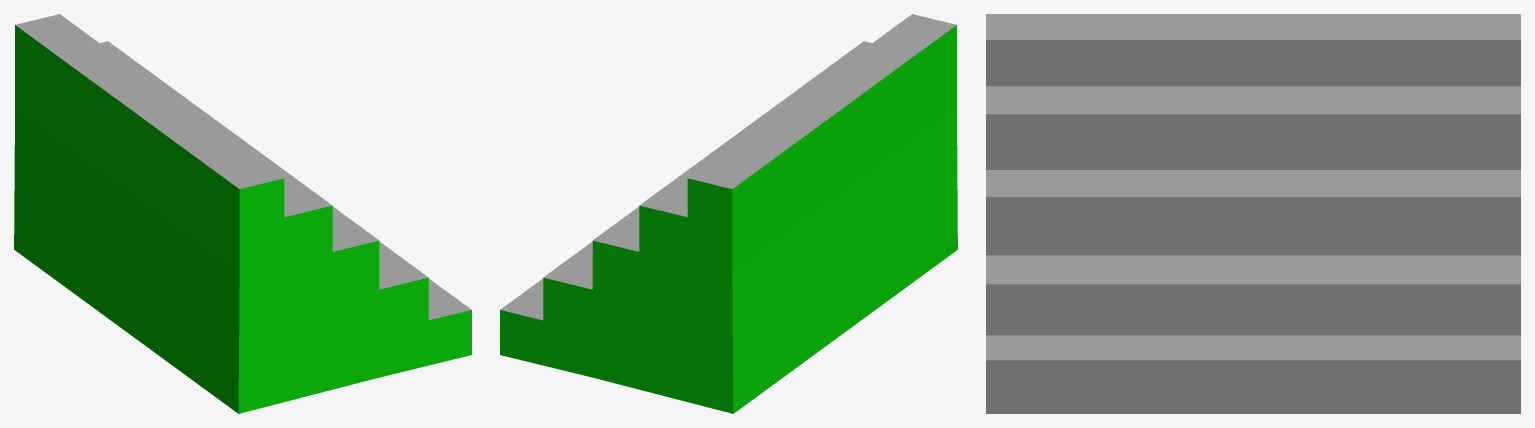
The model's file is Fild_Kaidan.fbx.
3 renders of one model, left to right at view 1: azimuth 30°, elevation 25°; view 2: azimuth 150°, elevation 25°; view 3: azimuth 270°, elevation 25°, orthographic. The views are drawn at different scales.
Visible parts, largest first — view 1: pCube2; view 2: pCube2; view 3: pCube2.
Boxes of the visible parts, x1,y1,x2,y2 form: pCube2: [14, 14, 471, 413]; pCube2: [500, 14, 957, 413]; pCube2: [986, 14, 1520, 413].
Bounding box in the file's own units: 790 × 726 × 1317.
